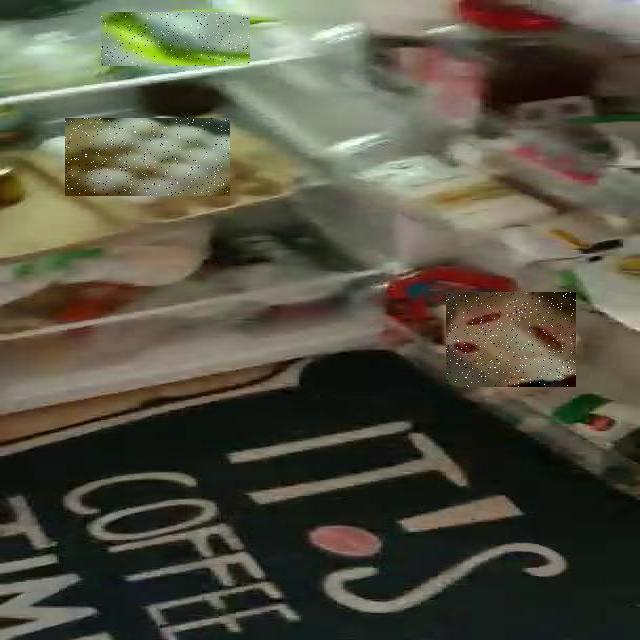egg: (0, 98, 180, 294)
milk: (158, 194, 640, 580)
